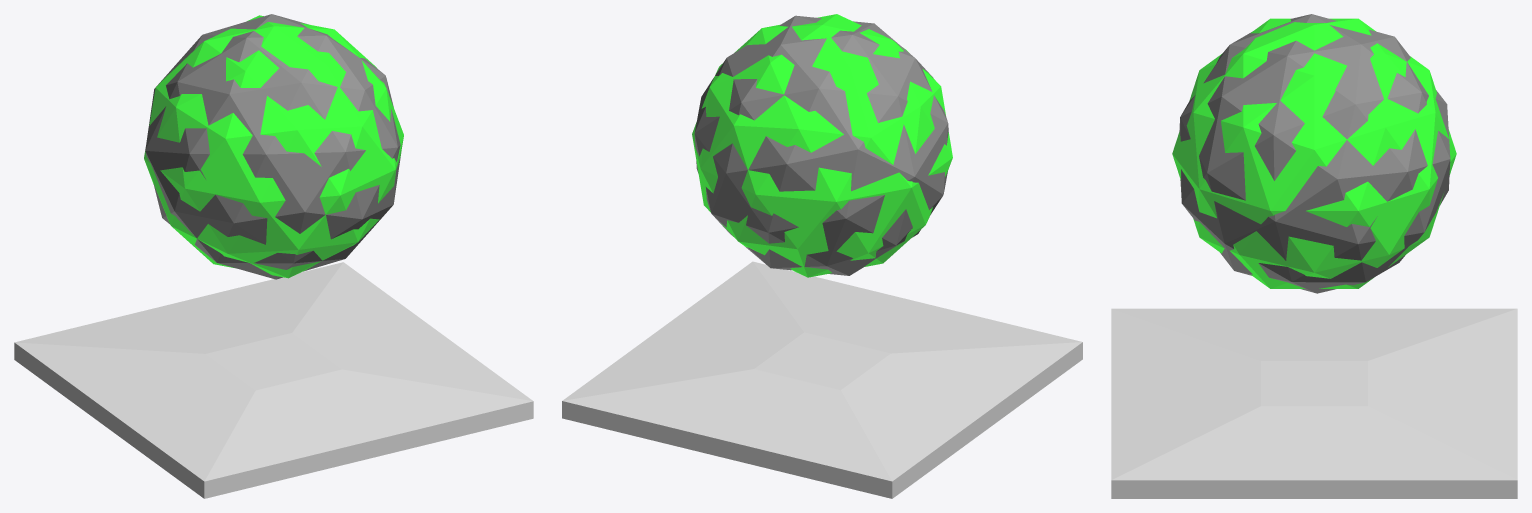
Rendered from smallore.glb.
The picture shows the model from 3 angles, left to right: view 1: azimuth 30°, elevation 25°; view 2: azimuth 150°, elevation 25°; view 3: azimuth 270°, elevation 25°; orthographic projection. The views are drawn at different scales.
Parts seen in each view (by area): view 1: Cube, Icosphere, Icosphere001; view 2: Cube, Icosphere001, Icosphere; view 3: Cube, Icosphere, Icosphere001.
Part boxes in pixels (left/top/right/bottom): Cube: left=14, top=262, right=533, bottom=498; Icosphere: left=144, top=15, right=403, bottom=278; Icosphere001: left=145, top=14, right=401, bottom=279; Cube: left=562, top=261, right=1082, bottom=498; Icosphere001: left=694, top=15, right=948, bottom=275; Icosphere: left=692, top=14, right=952, bottom=277; Cube: left=1111, top=308, right=1517, bottom=498; Icosphere: left=1172, top=18, right=1456, bottom=288; Icosphere001: left=1179, top=14, right=1450, bottom=293.
Size of the model in its own units: 0.3 by 0.3161 by 0.3.
